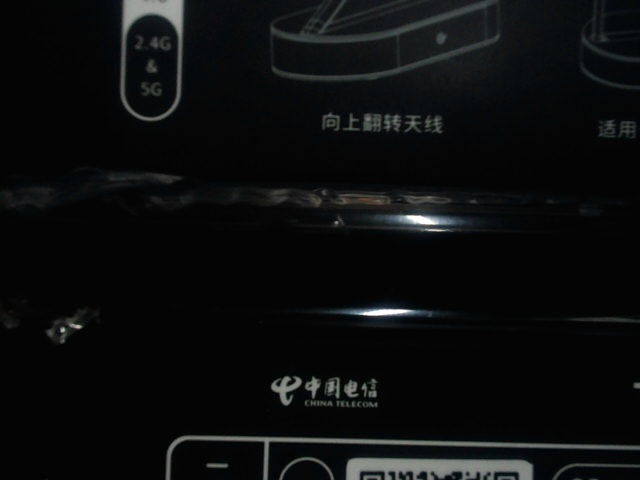AB_ChinaTelecom: (264, 359, 388, 420)
